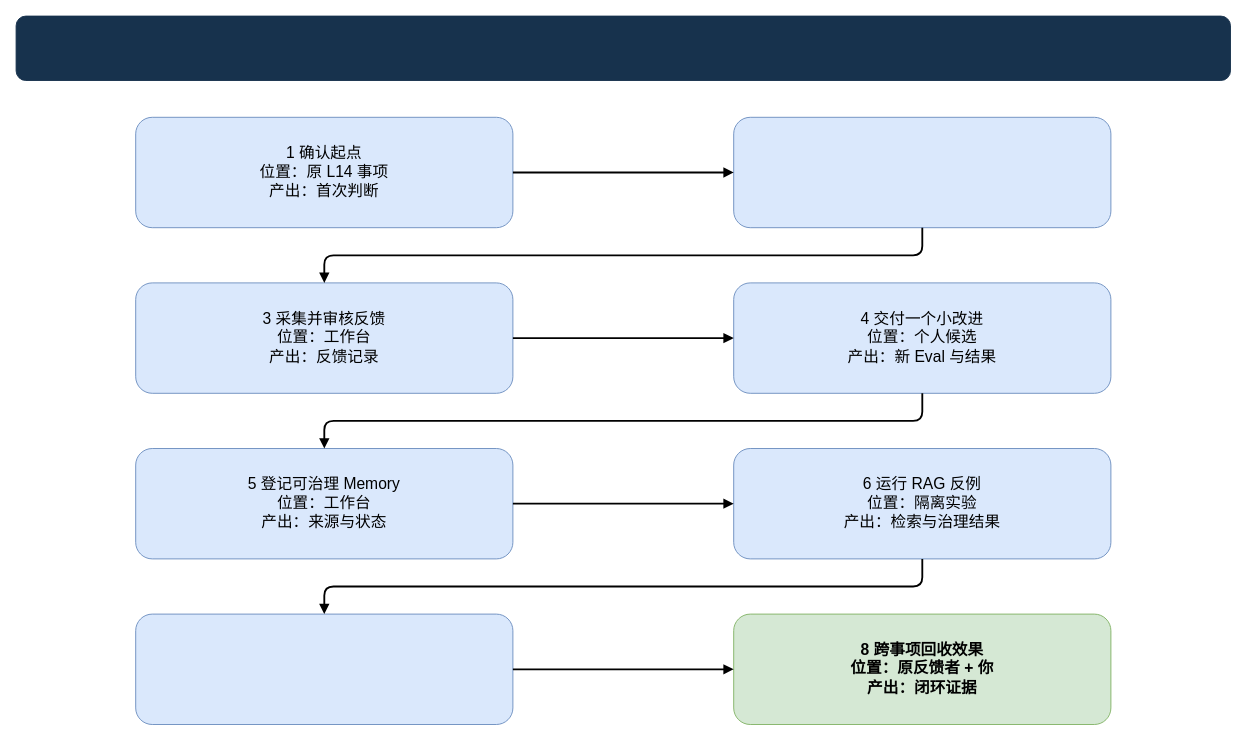
Image size: 1247x741. Some labels were removed from this diagram. The shapes that lost their labels are listed below. From the top down, each one's box as (x1, y1, x2, y2) in pixels, then its label:
(15, 15, 1230, 80): L15 实践路线：按顺序操作，每一步都留下实际结果
(733, 116, 1111, 228): 2 导出事实摘要 位置：控制仓库 产出：交付摘要
(135, 613, 513, 724): 7 由人决定是否采用 位置：Codex + 你 产出：采用记录
